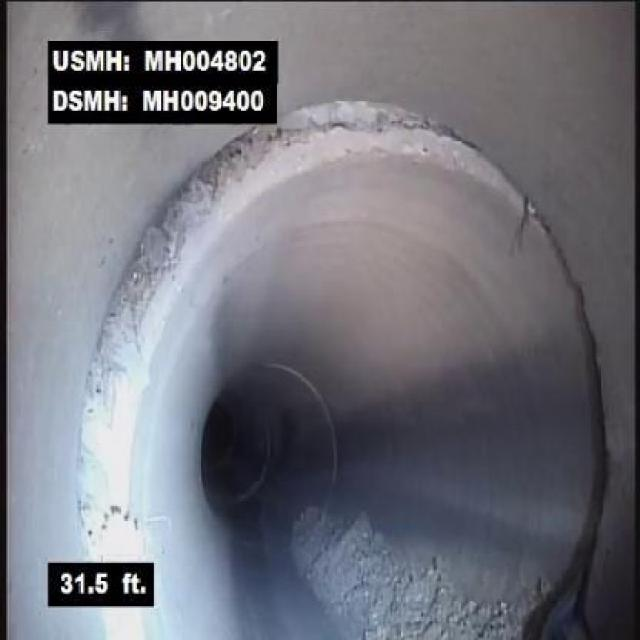Joint offset: (172, 95, 548, 203), (94, 206, 238, 365), (69, 368, 151, 557)
